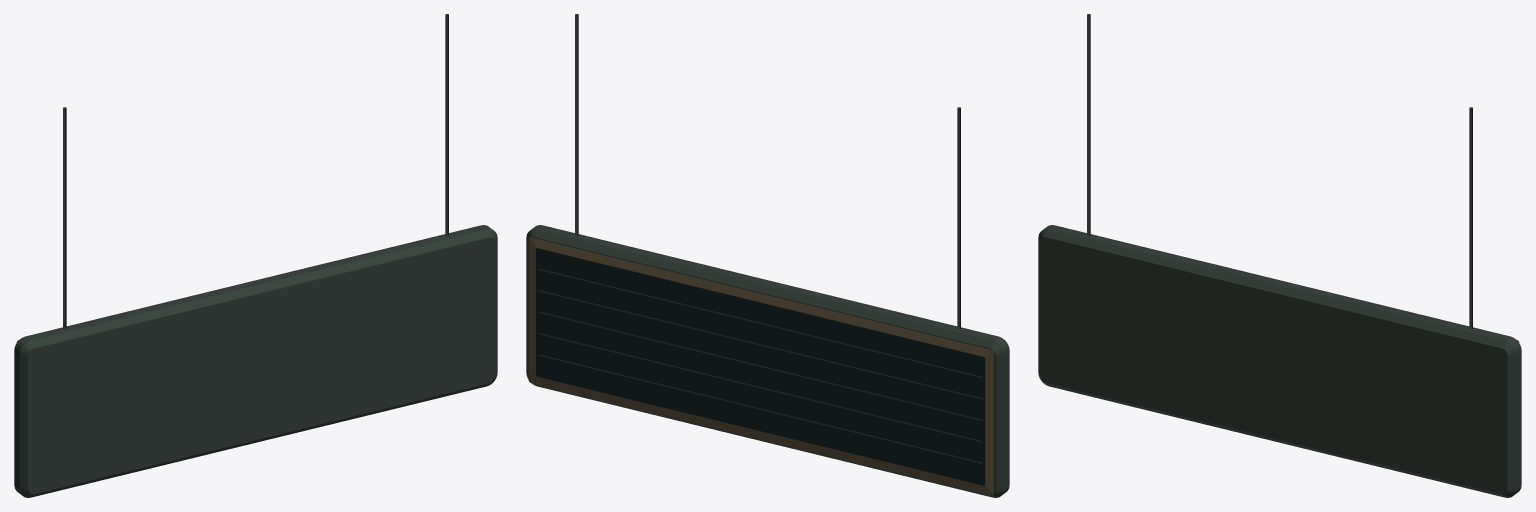
File: departure_board.obj
3 renders of one model, left to right at view 1: azimuth 30°, elevation 25°; view 2: azimuth 150°, elevation 25°; view 3: azimuth 330°, elevation 25°, orthographic.
Visible parts, largest first — view 1: housing, ceiling_rods; view 2: runtime_departures, housing, bezel, row_dividers, ceiling_rods; view 3: housing, ceiling_rods.
Boxes of the visible parts, x1=… form: housing: x1=14, y1=225, x2=497, y2=497; ceiling_rods: x1=63, y1=14, x2=448, y2=328; runtime_departures: x1=536, y1=248, x2=984, y2=485; housing: x1=526, y1=225, x2=1009, y2=497; bezel: x1=528, y1=237, x2=993, y2=495; row_dividers: x1=538, y1=269, x2=982, y2=463; ceiling_rods: x1=575, y1=14, x2=960, y2=328; housing: x1=1038, y1=225, x2=1521, y2=497; ceiling_rods: x1=1087, y1=14, x2=1472, y2=328.
Size of the model in its own units: 7 by 5.3 by 0.3475.
